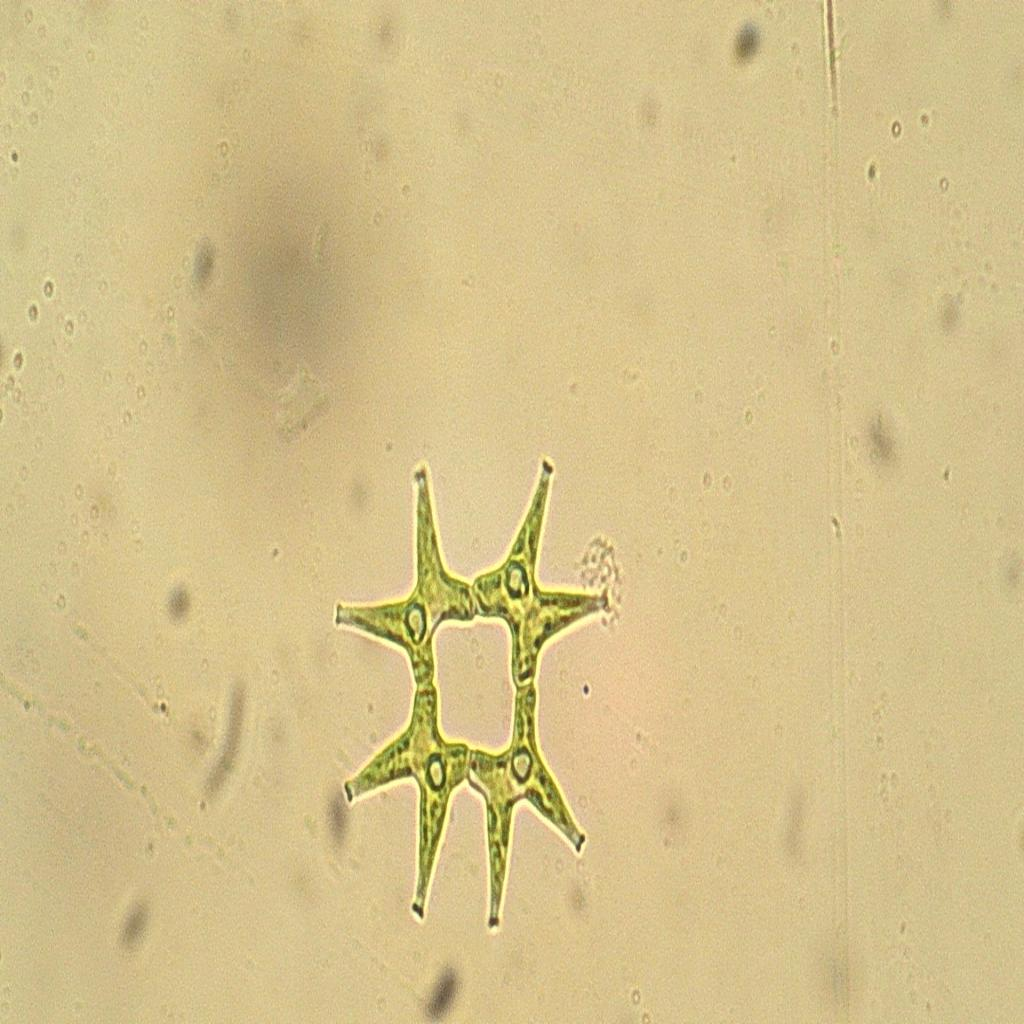Pediastrum_10: (317, 440, 625, 982)
